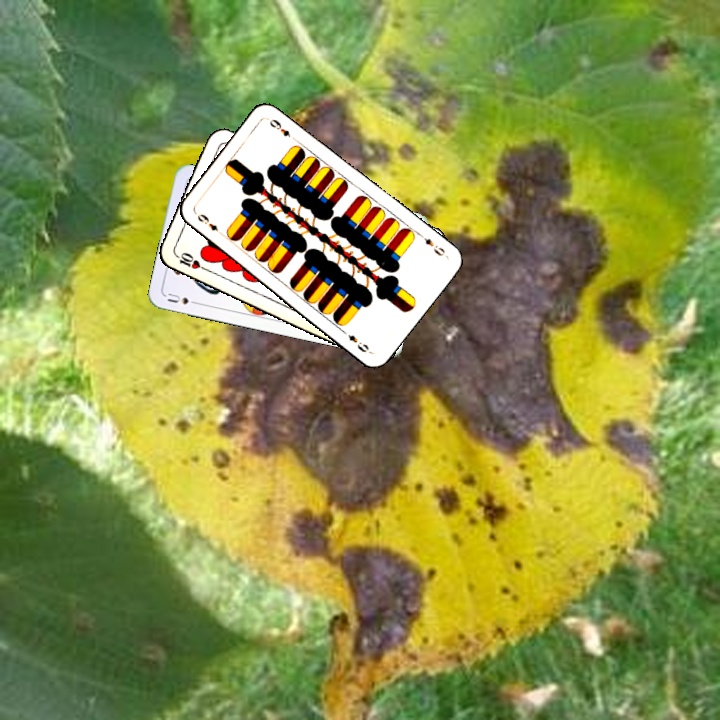E9: (193, 210, 226, 238), (420, 233, 449, 259)
H10: (171, 248, 209, 273)
SU: (163, 289, 202, 307)
